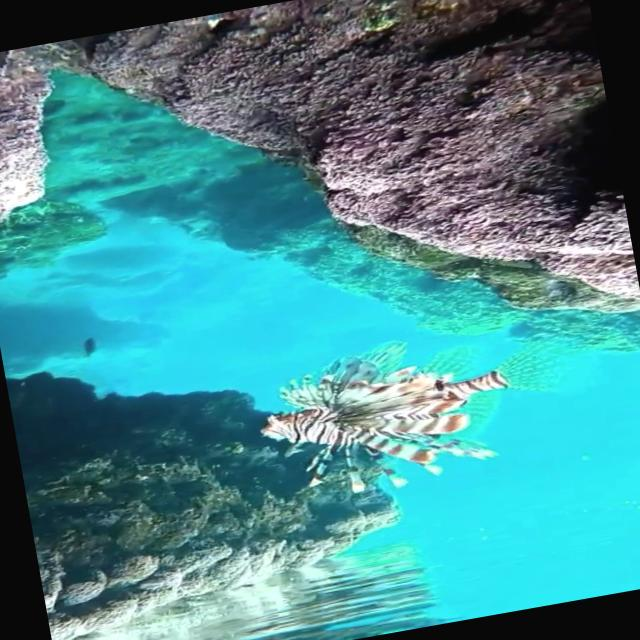Aslan Baligi: (247, 322, 526, 511)
